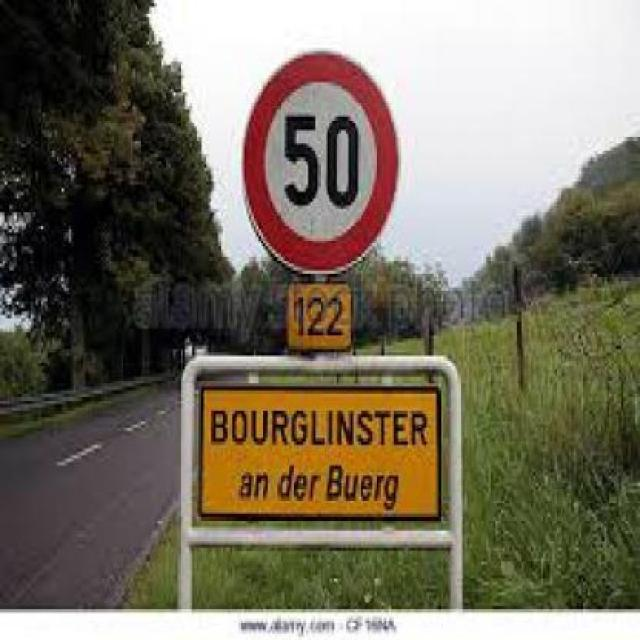forb_speed_over_50: (247, 49, 396, 275)
